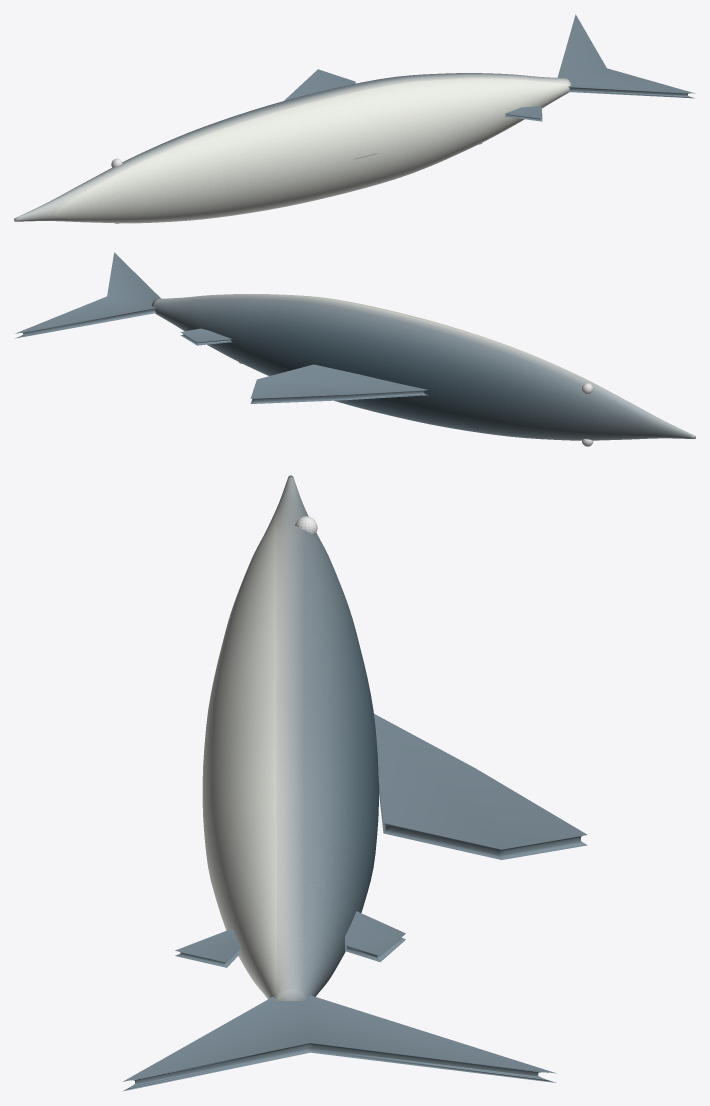
The model's file is shark_v3.glb.
3 views of the same model, one above another, from view 1: azimuth 30°, elevation 25°; view 2: azimuth 150°, elevation 25°; view 3: azimuth 270°, elevation 25° (orthographic). The views are drawn at different scales.
Parts seen in each view (by area): view 1: GEO-shark-body, GEO-caudal, GEO-dorsal, GEO-anal; view 2: GEO-shark-body, GEO-dorsal, GEO-caudal, GEO-dorsal2; view 3: GEO-shark-body, GEO-caudal, GEO-dorsal, GEO-dorsal2, GEO-anal.
Boxes of the visible parts, bbox=[...] form: GEO-shark-body: bbox=[14, 73, 571, 223]; GEO-caudal: bbox=[557, 14, 695, 98]; GEO-dorsal: bbox=[284, 69, 355, 100]; GEO-anal: bbox=[504, 106, 542, 121]; GEO-shark-body: bbox=[151, 294, 695, 440]; GEO-dorsal: bbox=[250, 364, 428, 403]; GEO-caudal: bbox=[14, 252, 160, 338]; GEO-dorsal2: bbox=[180, 328, 232, 345]; GEO-shark-body: bbox=[202, 475, 378, 1000]; GEO-caudal: bbox=[122, 995, 556, 1091]; GEO-dorsal: bbox=[374, 714, 587, 859]; GEO-dorsal2: bbox=[345, 911, 405, 962]; GEO-anal: bbox=[175, 928, 241, 967].
Bounding box in the file's own units: 7.5 × 1.14 × 2.43.
Materials: 3 (1 with a texture image).
